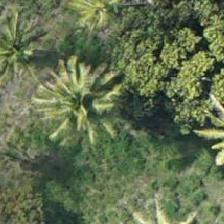coconut_tree: (36, 59, 126, 149), (0, 0, 53, 90), (61, 0, 151, 50)
